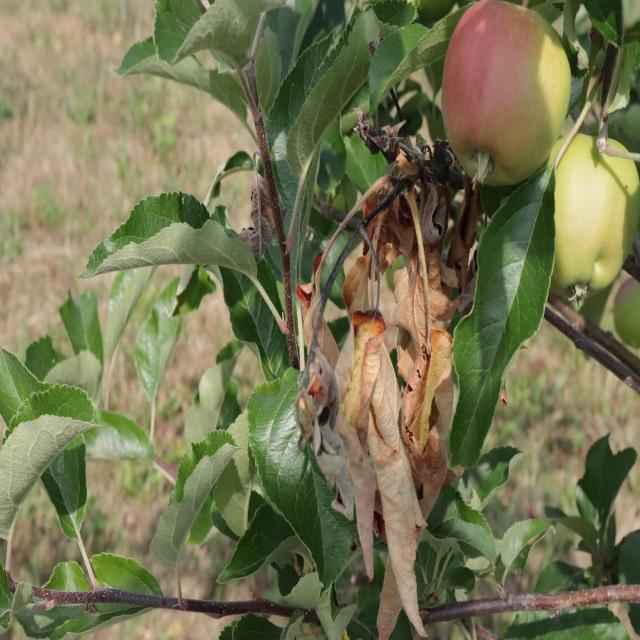-FireBlight-: (288, 136, 484, 640)
